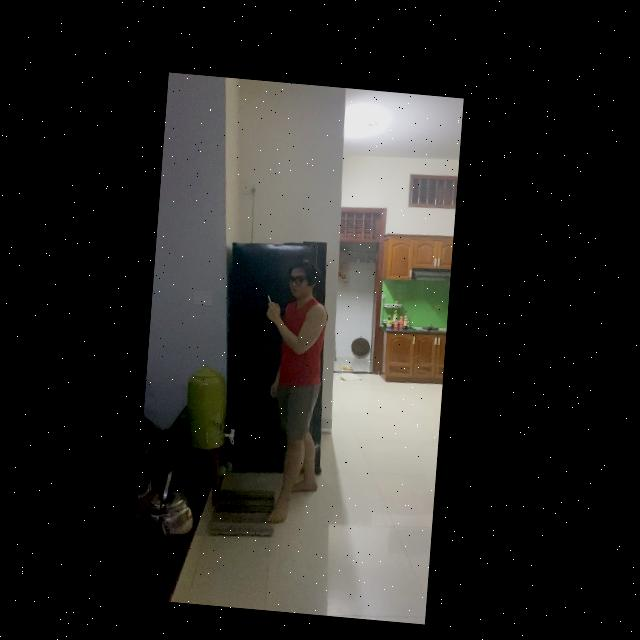cigarette: (271, 290, 275, 297)
